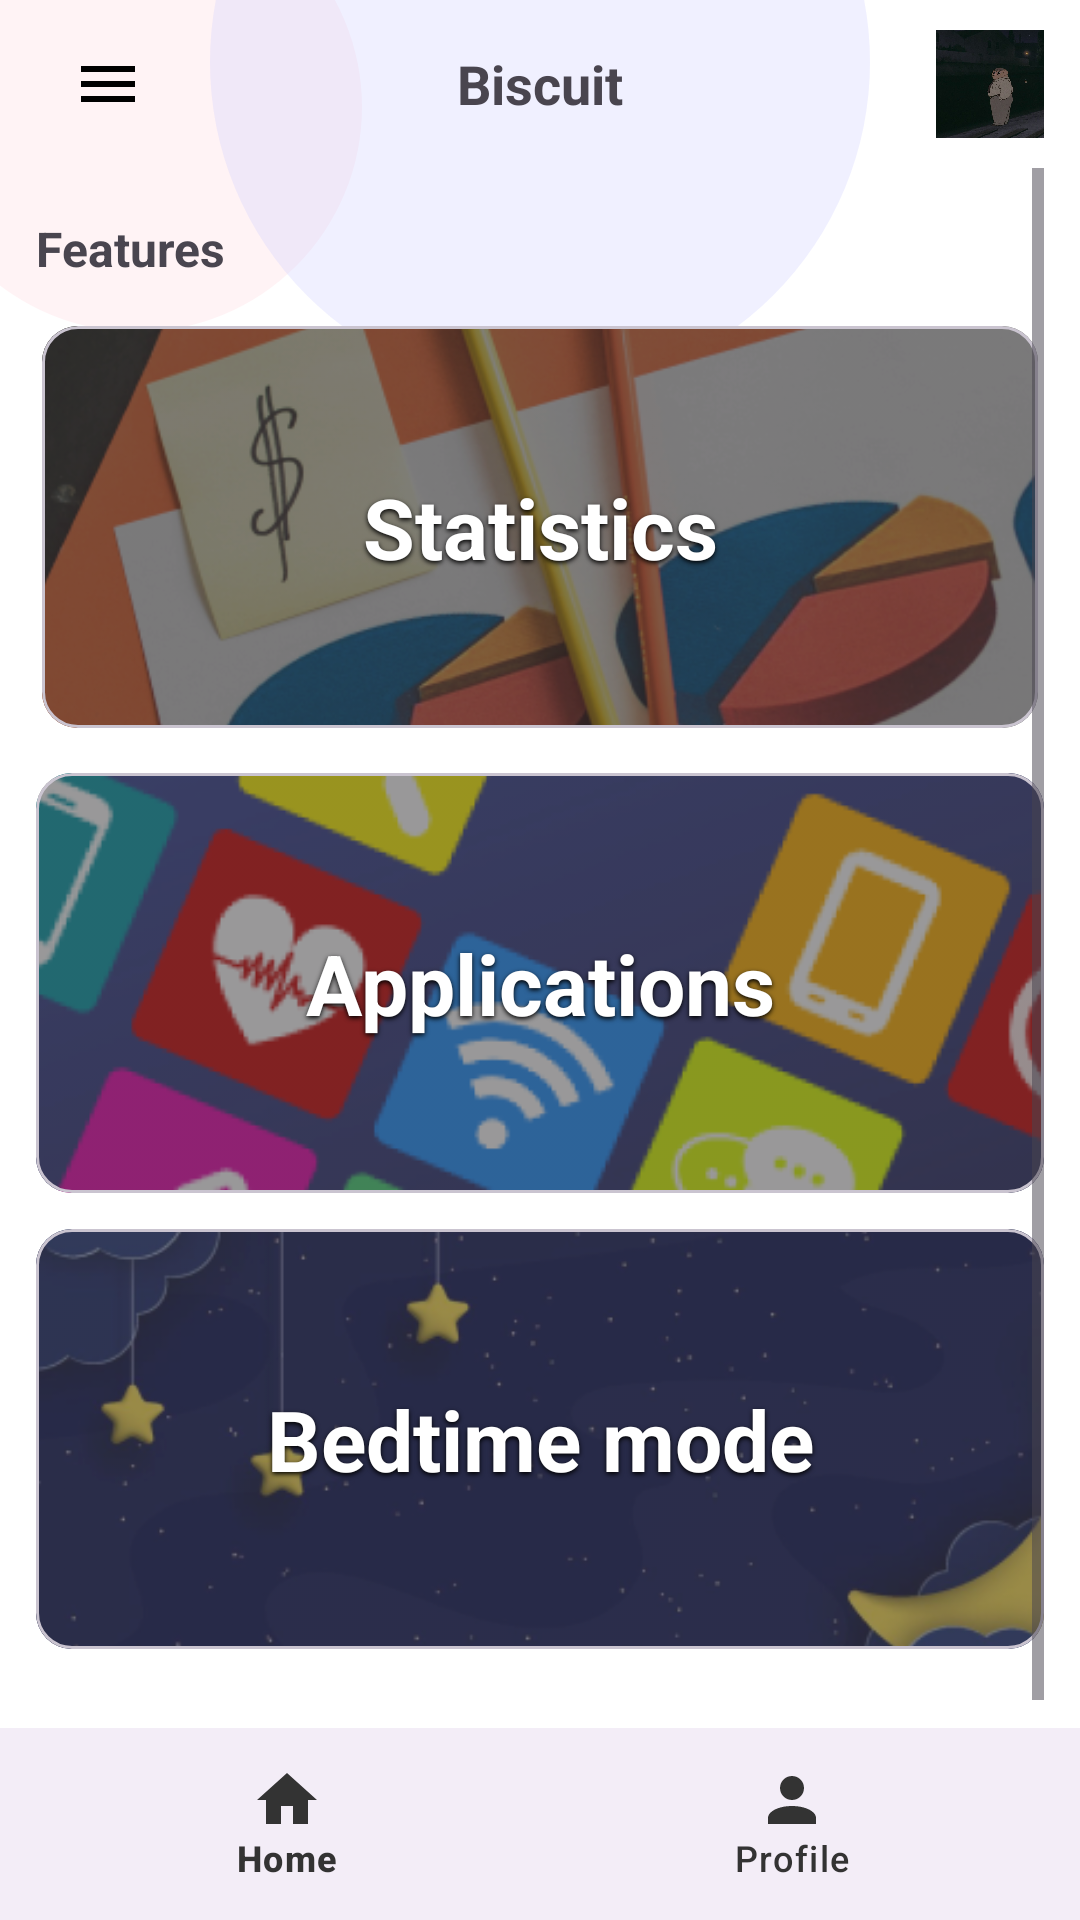

Where to tap for icons on this 1080px x 1920px app screen, as (x=x, y=y):
menu: (x=108, y=84)
